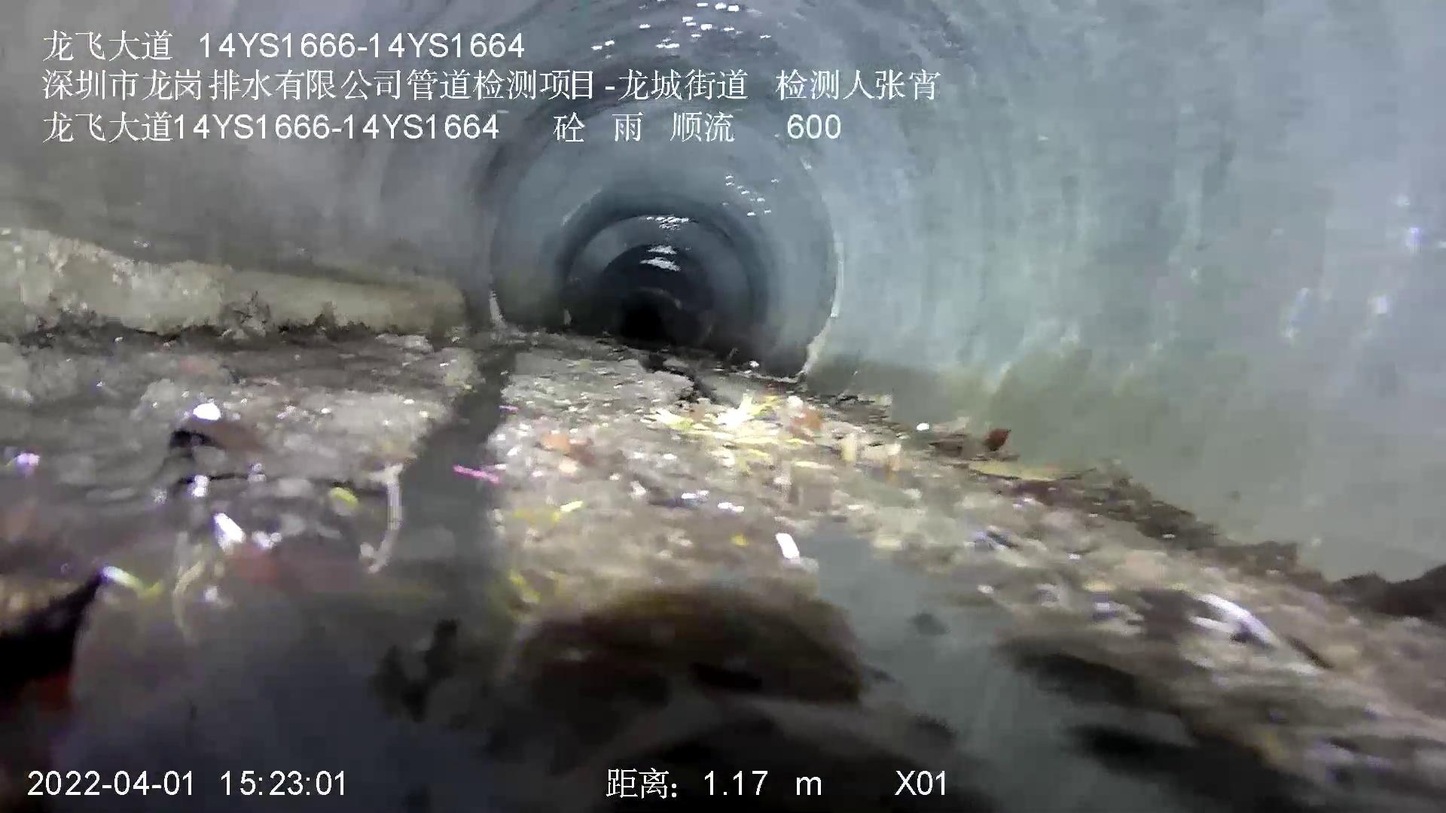CJ: (0, 318, 1445, 812)
